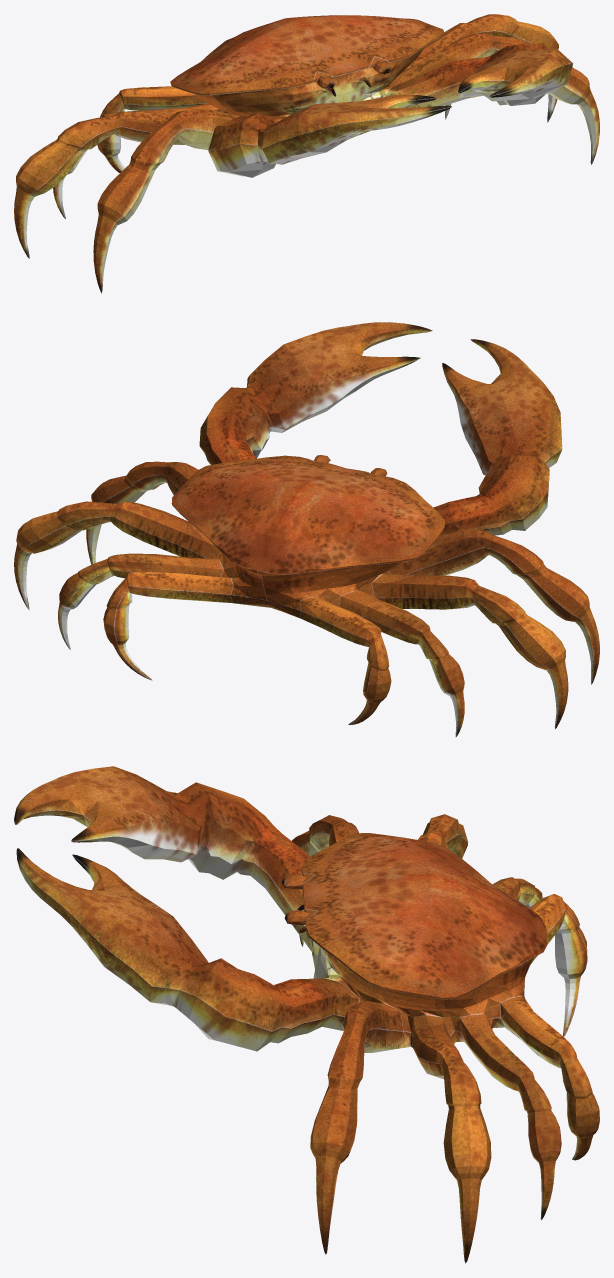
Rendered from Crab.obj.
3 views of the same model, one above another, from view 1: azimuth 30°, elevation 25°; view 2: azimuth 150°, elevation 25°; view 3: azimuth 270°, elevation 25° (orthographic). The views are drawn at different scales.
Visible parts, largest first — view 1: MQ2XTA8OJSFZWSANVIS1CEH6_Object_TexMap_0; view 2: MQ2XTA8OJSFZWSANVIS1CEH6_Object_TexMap_0; view 3: MQ2XTA8OJSFZWSANVIS1CEH6_Object_TexMap_0.
Part boxes in pixels (<box>): MQ2XTA8OJSFZWSANVIS1CEH6_Object_TexMap_0: <box>14,14,599,293</box>; MQ2XTA8OJSFZWSANVIS1CEH6_Object_TexMap_0: <box>14,322,599,736</box>; MQ2XTA8OJSFZWSANVIS1CEH6_Object_TexMap_0: <box>14,766,599,1263</box>.
Size of the model in its own units: 0.4901 by 0.1844 by 0.3548.
Materials: 1 (1 with a texture image).
